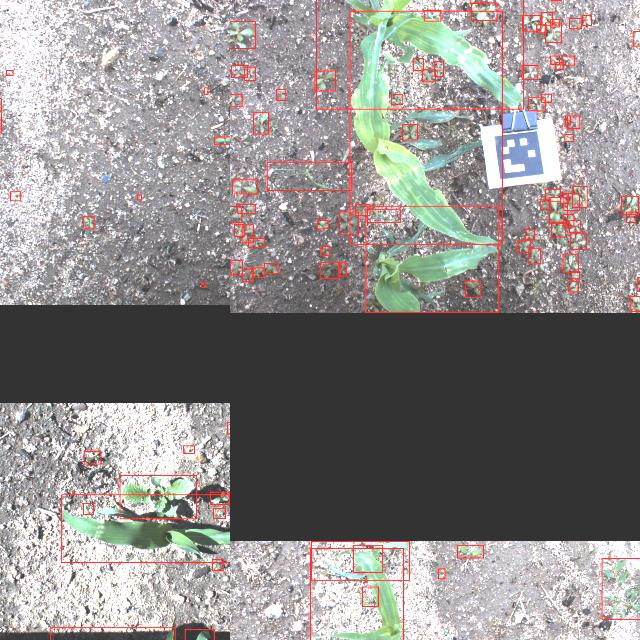crop: (350, 10, 502, 244), (316, 0, 523, 108), (366, 205, 498, 312), (62, 494, 230, 562), (310, 547, 403, 640), (311, 540, 409, 580), (51, 627, 175, 640), (184, 629, 213, 640)
weed: (120, 475, 197, 519), (266, 162, 352, 190), (601, 557, 640, 618), (353, 544, 382, 572), (230, 20, 255, 47), (471, 2, 497, 20), (549, 197, 567, 223), (314, 70, 336, 90), (339, 212, 359, 234), (368, 210, 400, 222), (232, 179, 258, 193), (544, 22, 562, 42), (572, 186, 588, 207), (320, 262, 340, 278), (362, 586, 378, 606), (457, 544, 483, 556), (254, 112, 268, 134), (622, 196, 638, 214), (563, 254, 579, 272), (522, 15, 540, 30), (402, 124, 418, 140), (570, 233, 586, 249), (564, 192, 578, 210), (210, 492, 230, 504), (466, 281, 480, 297), (522, 65, 538, 79), (242, 224, 254, 242), (528, 98, 546, 110), (84, 451, 100, 464), (551, 222, 565, 236), (231, 64, 247, 76), (528, 248, 540, 264), (566, 115, 580, 128), (230, 206, 241, 222), (424, 10, 441, 20), (244, 66, 256, 80), (231, 260, 243, 274), (422, 69, 436, 81), (546, 189, 560, 201), (517, 240, 531, 252), (248, 237, 264, 247), (434, 60, 444, 76), (356, 203, 370, 214), (630, 295, 640, 310), (230, 94, 242, 106), (237, 204, 255, 212), (242, 269, 254, 281), (562, 214, 574, 226), (264, 263, 278, 273), (214, 136, 230, 144), (84, 216, 94, 228), (276, 88, 286, 100), (234, 224, 244, 236), (252, 267, 264, 277), (391, 94, 403, 104), (413, 58, 423, 70), (570, 18, 582, 28), (542, 12, 552, 24), (632, 30, 640, 45), (570, 220, 580, 232), (568, 280, 578, 292), (83, 502, 93, 514), (212, 560, 224, 570), (213, 508, 225, 518), (338, 262, 346, 276), (582, 15, 592, 25), (550, 54, 560, 64), (626, 212, 636, 222), (540, 199, 550, 209), (316, 220, 328, 228), (562, 56, 574, 64), (183, 445, 194, 453), (11, 192, 21, 200), (320, 246, 330, 254), (536, 24, 546, 32), (550, 18, 560, 26), (541, 93, 551, 101), (526, 229, 534, 239), (560, 193, 568, 203), (554, 62, 564, 68), (564, 134, 574, 140), (439, 568, 445, 578), (571, 272, 579, 278), (637, 277, 640, 291), (227, 421, 230, 433), (566, 116, 570, 124), (6, 70, 12, 74), (137, 194, 141, 200), (202, 282, 206, 288), (204, 87, 208, 93)
